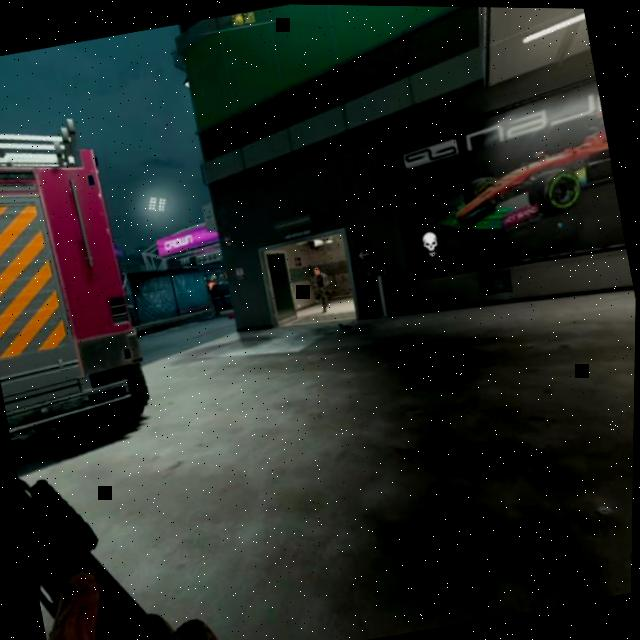MW2_body: (308, 263, 338, 313)
